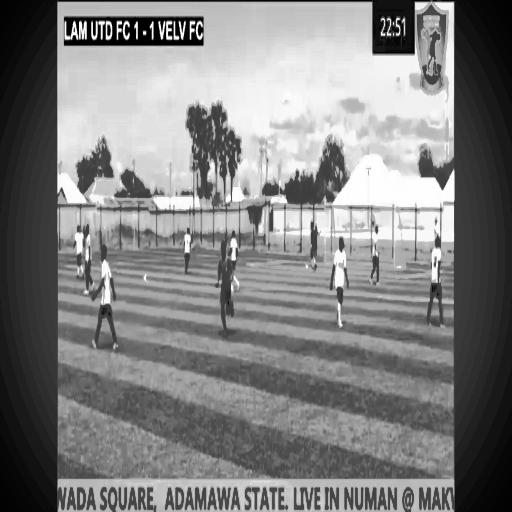ball: (304, 258, 310, 272)
keeper1: (310, 215, 316, 273)
referee: (212, 236, 237, 337)
team1: (93, 244, 119, 356), (429, 226, 445, 333), (366, 218, 386, 287), (81, 218, 96, 292), (183, 220, 191, 279)
team2: (334, 229, 346, 336), (72, 212, 84, 280), (229, 218, 239, 273)
